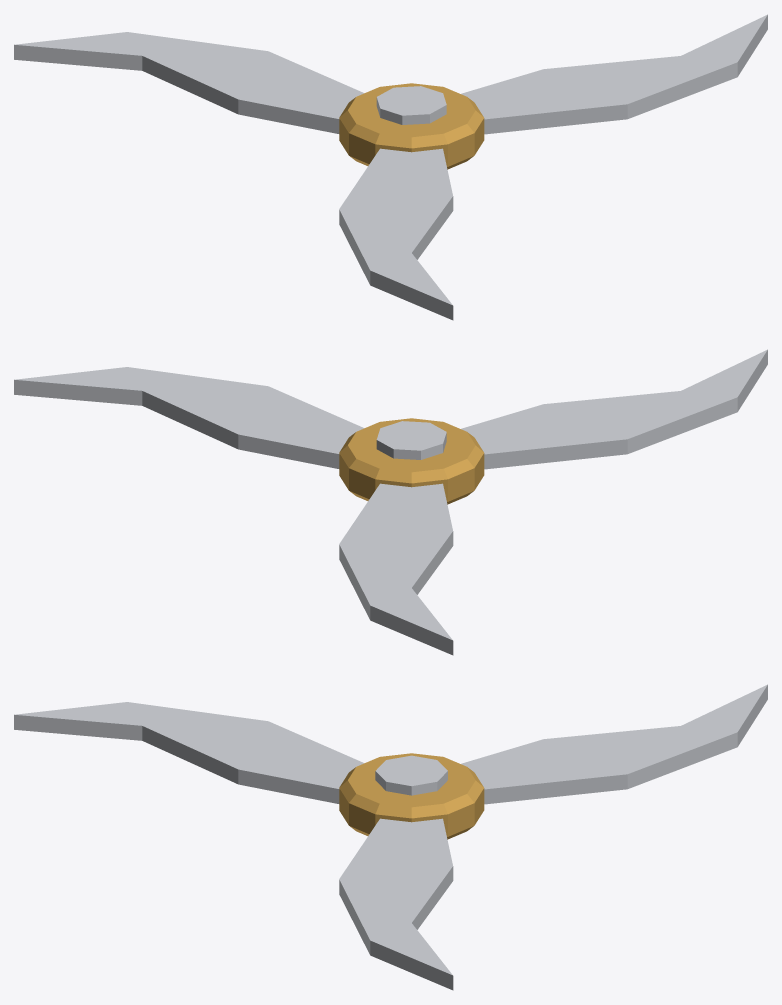
The model's file is SM_SpinBlade.fbx.
3 views of the same model, one above another, from view 1: azimuth 30°, elevation 25°; view 2: azimuth 150°, elevation 25°; view 3: azimuth 270°, elevation 25° (orthographic).
Parts seen in each view (by area): view 1: SM_SpinBlade; view 2: SM_SpinBlade; view 3: SM_SpinBlade.
Part boxes in pixels (left/top/right/bottom): SM_SpinBlade: left=14, top=14, right=767, bottom=320; SM_SpinBlade: left=14, top=349, right=767, bottom=655; SM_SpinBlade: left=14, top=684, right=767, bottom=990.
Bounding box in the file's own units: 66.46 × 6 × 72.75.
